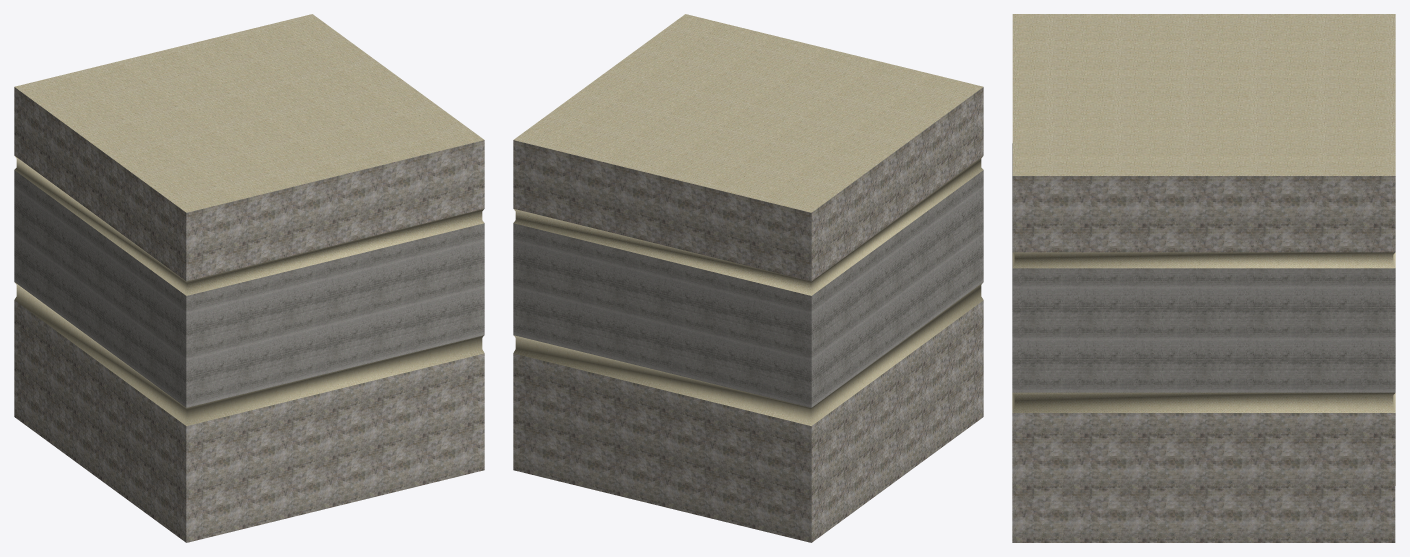
Rendered from LighthouseStoneSky.fbx.
The picture shows the model from 3 angles, left to right: view 1: azimuth 30°, elevation 25°; view 2: azimuth 150°, elevation 25°; view 3: azimuth 270°, elevation 25°; orthographic projection. The views are drawn at different scales.
Parts seen in each view (by area): view 1: Cube.001; view 2: Cube.001; view 3: Cube.001.
Boxes of the visible parts, bbox=[...] form: Cube.001: bbox=[14, 14, 484, 542]; Cube.001: bbox=[513, 14, 983, 542]; Cube.001: bbox=[1012, 14, 1395, 542].
Size of the model in its own units: 1950000 by 2062474 by 1950000.
Materials: 3 (3 with a texture image).
